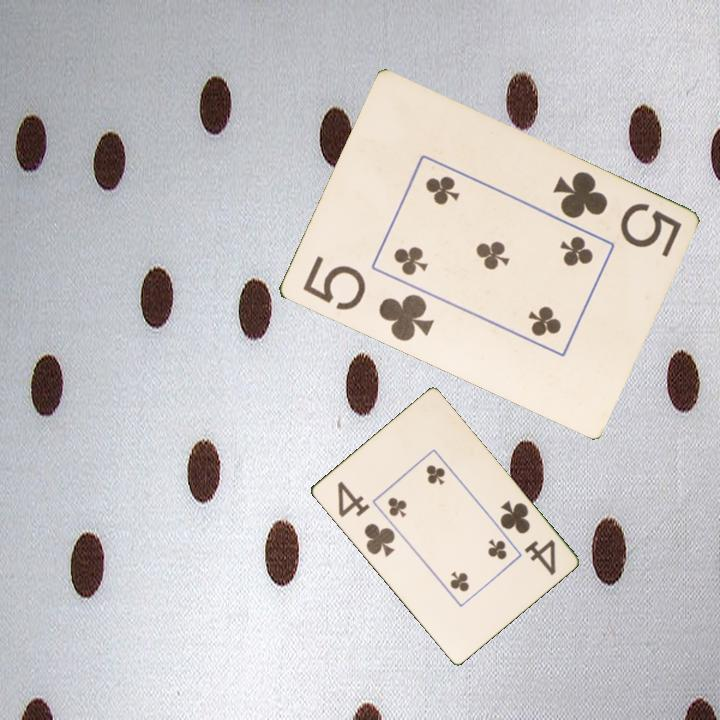4c: (333, 478, 398, 560), (496, 496, 559, 578)
5c: (298, 252, 437, 345), (549, 168, 684, 261)
